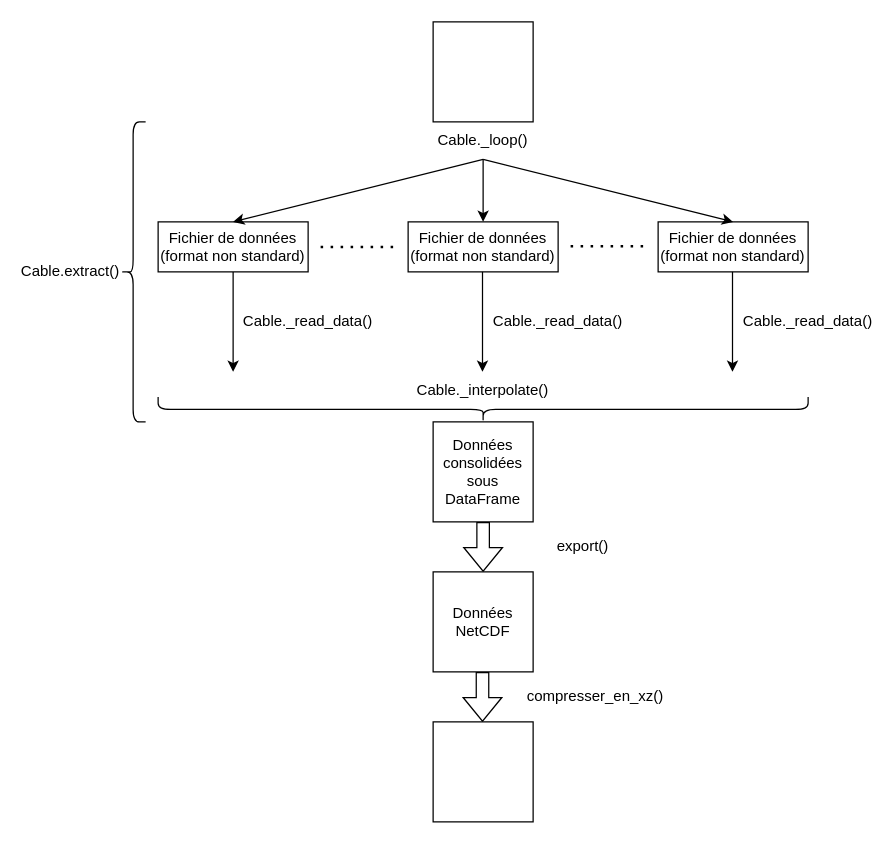
The diagram is 894 pixels wide and 844 high, and some of its shapes have lost their labels. Here are the shapes that lost their labels. From the top down, the centre of each, then its label:
At [482,71]: "Données brutes (arborescence non standard)".
At [482,771]: "Données compressées en XZ".
